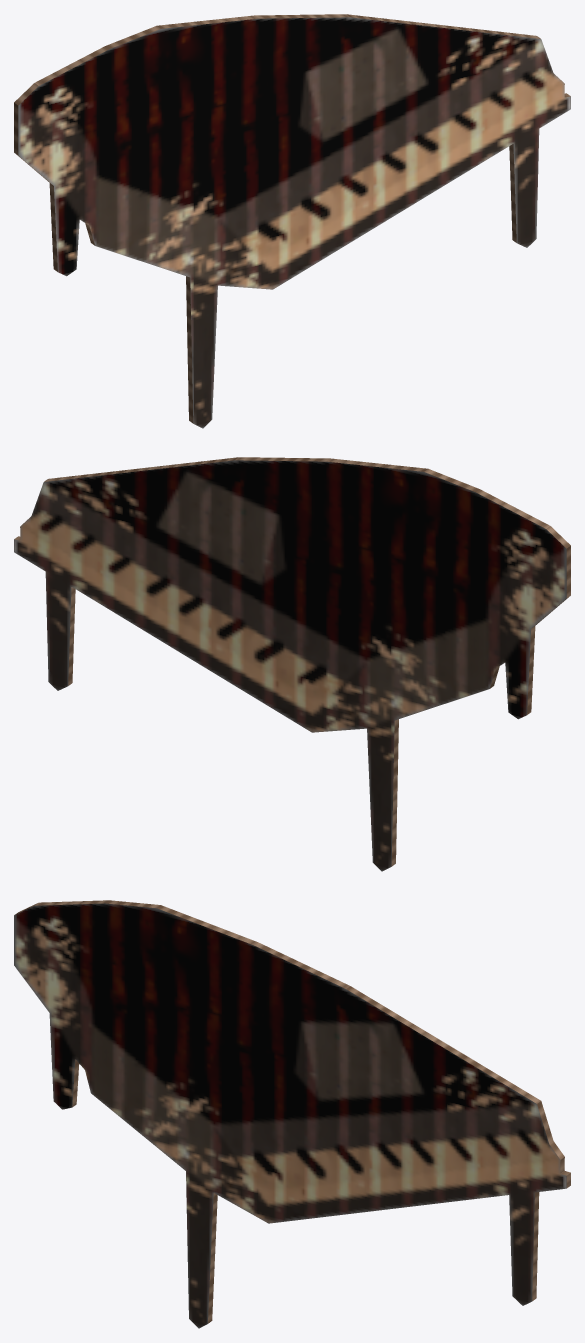
File: SM_Piano.fbx
3 renders of one model, top to bottom at view 1: azimuth 30°, elevation 25°; view 2: azimuth 150°, elevation 25°; view 3: azimuth 330°, elevation 25°, orthographic.
Parts seen in each view (by area): view 1: pPlane5; view 2: pPlane5; view 3: pPlane5.
Boxes of the visible parts, <box> form: pPlane5: <box>14,14,570,428</box>; pPlane5: <box>14,457,570,871</box>; pPlane5: <box>14,900,570,1328</box>.
Size of the model in its own units: 734 by 521 by 9.95.
